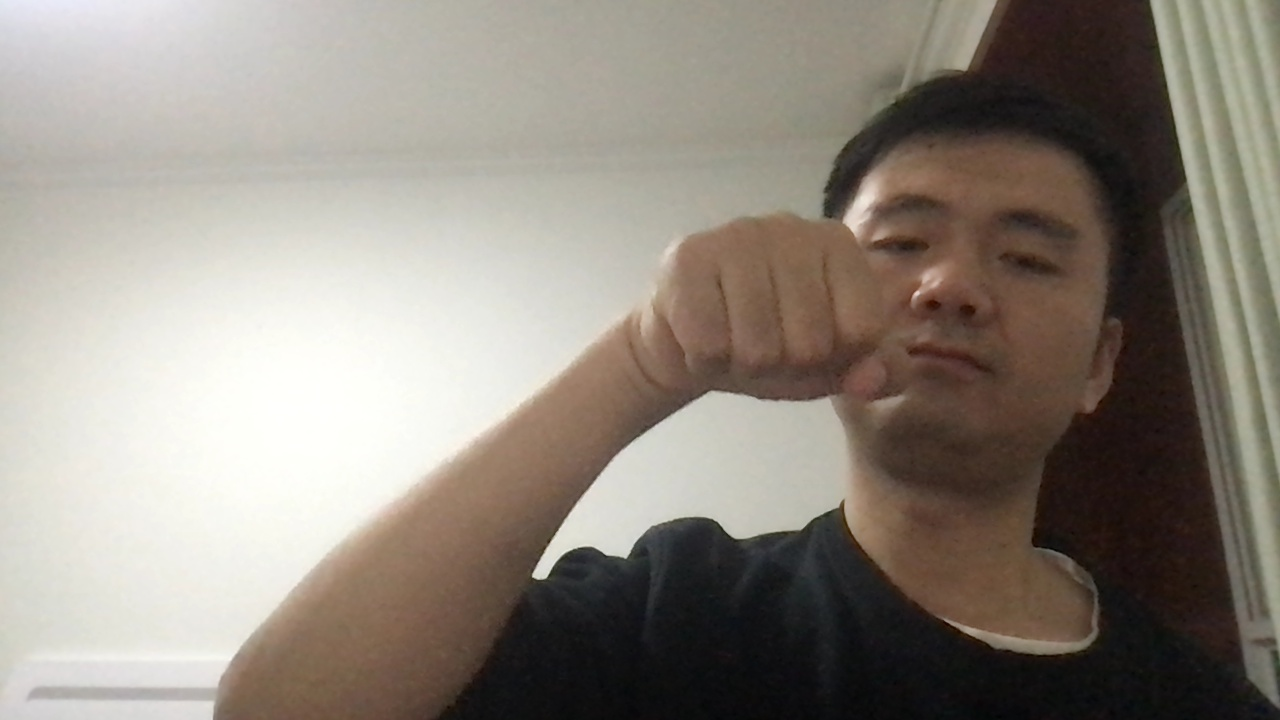ok: (613, 210, 890, 433)
